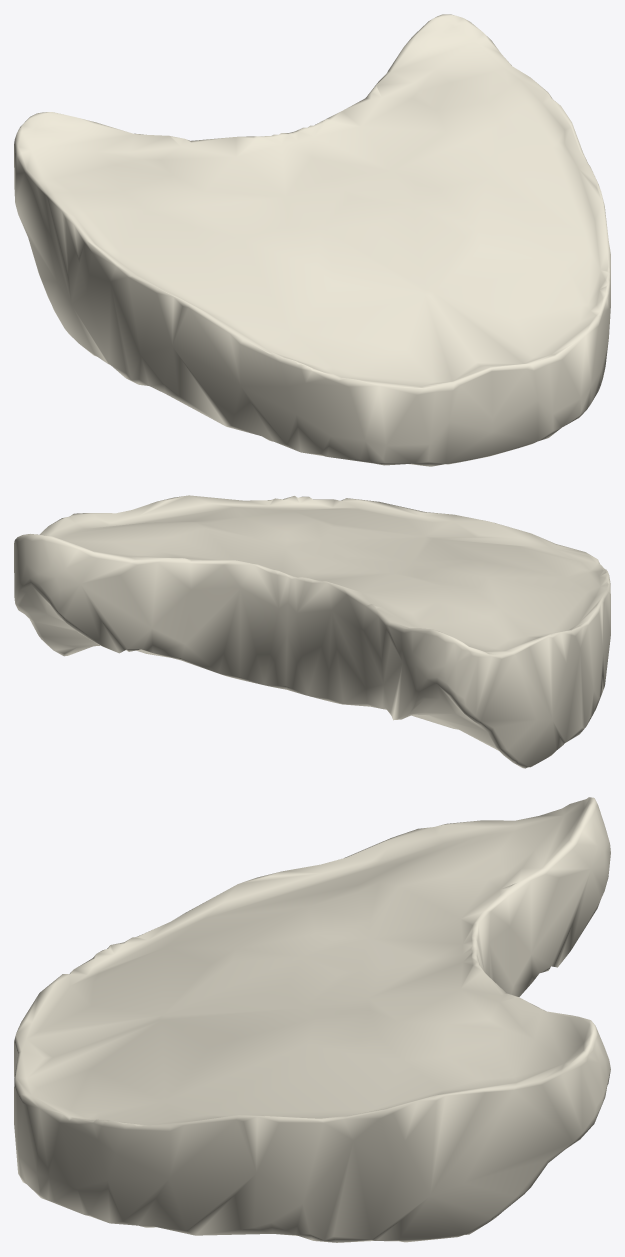
3 renders of one model, top to bottom at view 1: azimuth 30°, elevation 25°; view 2: azimuth 150°, elevation 25°; view 3: azimuth 270°, elevation 25°, orthographic. The views are drawn at different scales.
Parts seen in each view (by area): view 1: ZA_1ee6c9756fd7094c; view 2: ZA_1ee6c9756fd7094c; view 3: ZA_1ee6c9756fd7094c.
Part boxes in pixels (bbox=[...]): ZA_1ee6c9756fd7094c: bbox=[14, 14, 610, 466]; ZA_1ee6c9756fd7094c: bbox=[14, 495, 610, 768]; ZA_1ee6c9756fd7094c: bbox=[14, 797, 610, 1242].
Size of the model in its own units: 0.0321 by 0.0133 by 0.0297.
